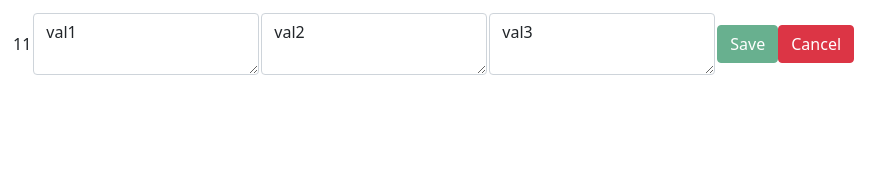
Test case: Dirty state test › Save button is enabled after updating
Replace the text in the 2nd text box "val2" with "val2_updated" at x=374, y=44, box [261,13,487,75]
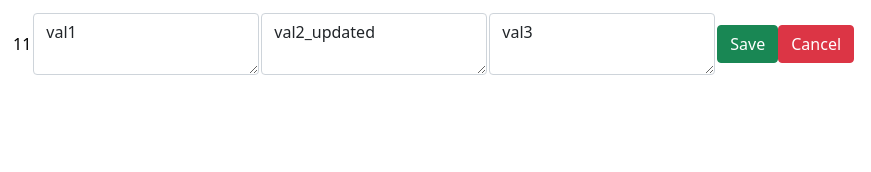
Result: the button "Save" is enabled at [717,25,778,63]
